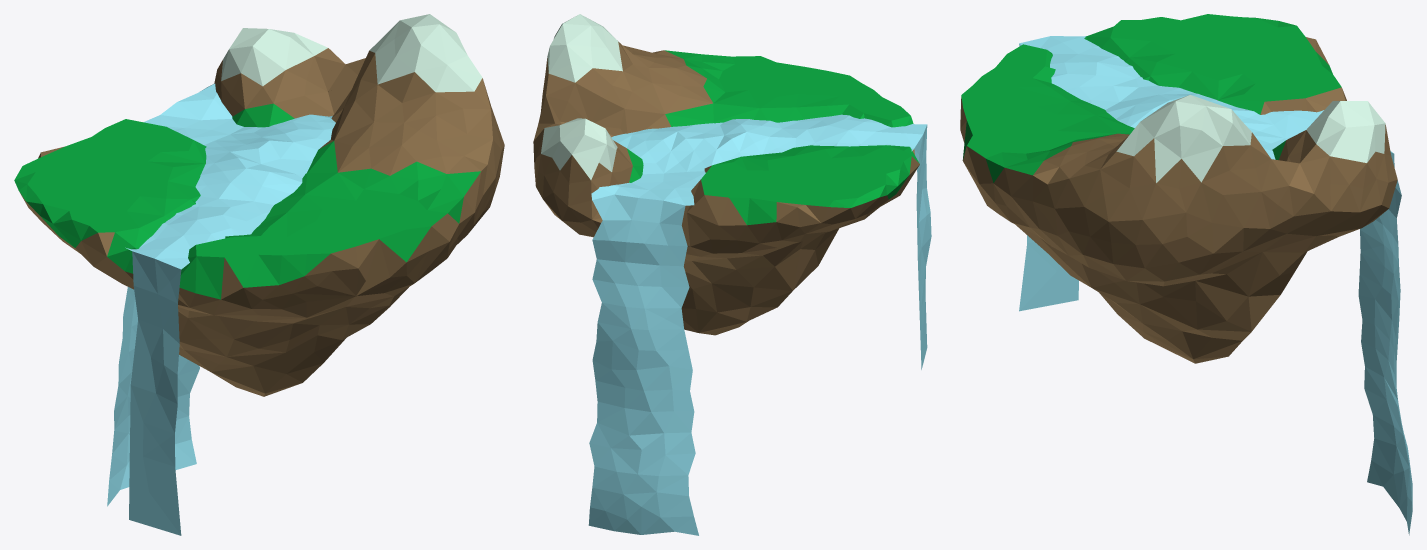
Rendered from RandWater_Fracture.fbx.
3 views of the same model, side by side, from view 1: azimuth 30°, elevation 25°; view 2: azimuth 150°, elevation 25°; view 3: azimuth 270°, elevation 25° (orthographic). The views are drawn at different scales.
Visible parts, largest first — view 1: Rand04, Plane, Rand04_cell.111, Rand04_cell.062, Rand04_cell.069, Rand04_cell.005, Rand04_cell.189, Rand04_cell.137, Rand04_cell.158, Rand04_cell.024, Rand04_cell.079, Rand04_cell.052 (+17 smaller); view 2: Rand04, Plane, Rand04_cell.185, Rand04_cell.178, Rand04_cell.150, Rand04_cell.080, Rand04_cell.006, Rand04_cell.153, Rand04_cell.171, Rand04_cell.192, Rand04_cell.148, Rand04_cell.090 (+11 smaller); view 3: Rand04, Plane, Rand04_cell.049, Rand04_cell.111, Rand04_cell.022, Rand04_cell.140, Rand04_cell.003, Rand04_cell.160, Rand04_cell.132, Rand04_cell.128, Rand04_cell.188, Rand04_cell.150 (+23 smaller).
Boxes of the visible parts, bbox=[...] form: Rand04: bbox=[14, 14, 504, 394]; Plane: bbox=[107, 83, 335, 535]; Rand04_cell.111: bbox=[265, 200, 402, 245]; Rand04_cell.062: bbox=[444, 87, 493, 155]; Rand04_cell.069: bbox=[224, 70, 285, 127]; Rand04_cell.005: bbox=[343, 211, 436, 306]; Rand04_cell.189: bbox=[409, 60, 451, 124]; Rand04_cell.137: bbox=[269, 258, 321, 320]; Rand04_cell.158: bbox=[237, 219, 321, 275]; Rand04_cell.024: bbox=[407, 103, 452, 167]; Rand04_cell.079: bbox=[206, 355, 261, 389]; Rand04_cell.052: bbox=[188, 325, 259, 361]; Rand04: bbox=[536, 14, 919, 331]; Plane: bbox=[588, 114, 931, 535]; Rand04_cell.185: bbox=[694, 184, 759, 253]; Rand04_cell.178: bbox=[610, 74, 654, 132]; Rand04_cell.150: bbox=[535, 74, 590, 133]; Rand04_cell.080: bbox=[540, 162, 598, 198]; Rand04_cell.006: bbox=[579, 39, 614, 80]; Rand04_cell.153: bbox=[543, 185, 593, 233]; Rand04_cell.171: bbox=[562, 131, 606, 178]; Rand04_cell.192: bbox=[753, 243, 807, 274]; Rand04_cell.148: bbox=[578, 176, 620, 236]; Rand04_cell.090: bbox=[828, 163, 889, 187]; Rand04: bbox=[960, 14, 1397, 363]; Plane: bbox=[1019, 36, 1412, 535]; Rand04_cell.049: bbox=[1119, 143, 1165, 249]; Rand04_cell.111: bbox=[982, 92, 1087, 145]; Rand04_cell.022: bbox=[1179, 212, 1260, 276]; Rand04_cell.140: bbox=[984, 147, 1064, 247]; Rand04_cell.003: bbox=[1103, 281, 1182, 330]; Rand04_cell.160: bbox=[1321, 174, 1376, 228]; Rand04_cell.132: bbox=[1183, 296, 1258, 340]; Rand04_cell.128: bbox=[1259, 206, 1340, 269]; Rand04_cell.188: bbox=[1120, 249, 1194, 285]; Rand04_cell.150: bbox=[1247, 127, 1303, 211].
Size of the model in its own units: 2595 by 2895 by 2387.
